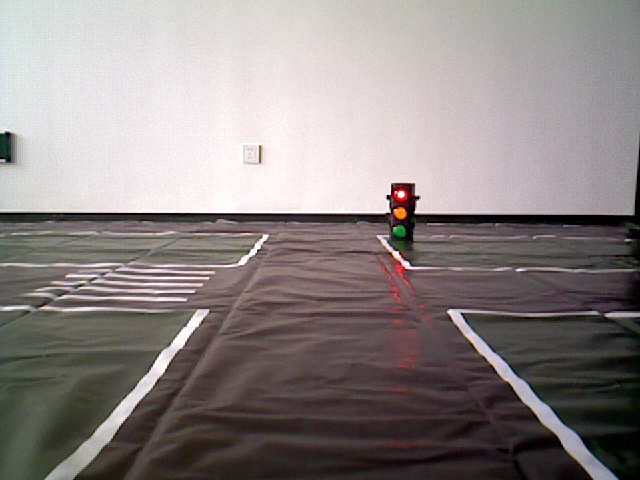red: (391, 184, 409, 241)
